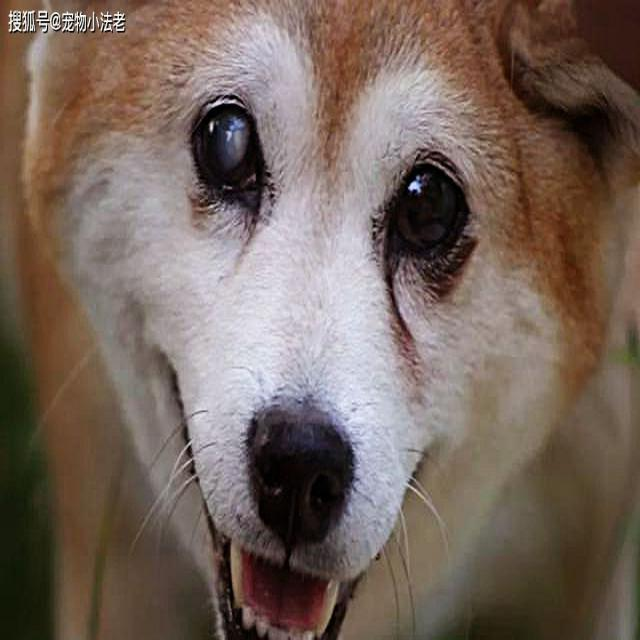eye: (379, 150, 473, 272), (184, 86, 270, 207)
